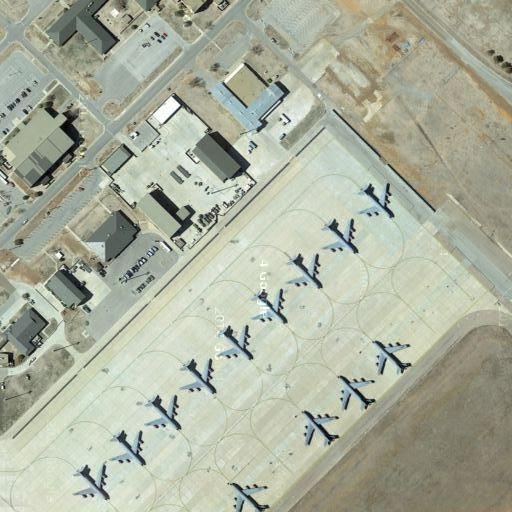KC-135: (352, 180, 400, 223), (281, 251, 330, 292), (299, 406, 342, 450), (215, 322, 257, 365), (335, 370, 380, 410), (371, 336, 413, 377), (249, 288, 292, 328), (320, 217, 362, 257), (143, 394, 185, 434), (179, 357, 219, 398), (225, 479, 273, 512), (72, 463, 110, 504), (110, 429, 147, 468)
